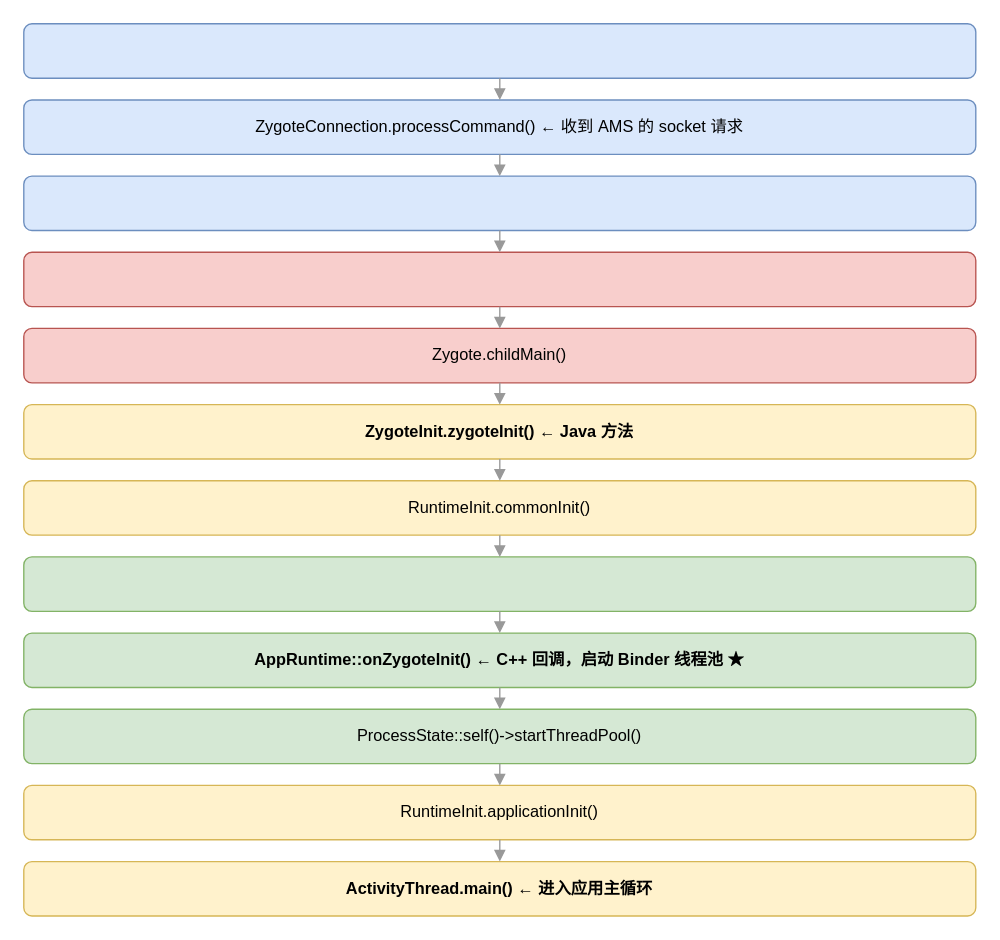
Some shapes in this 1000 by 940 pixel diagram are drawn without their labels. The shapes that lost their labels are listed below. From the top down, each one's centre as x and y in pixels, then its label:
the point at 499,50: Zygote.runSelectLoop()
the point at 499,203: Zygote.forkAndSpecialize() / forkSimpleApps() ← fork 发生在 Java 层
the point at 499,279: 子进程从 fork 点继续（不再回到 app_main.cpp main()）
the point at 499,583: ZygoteInit.nativeZygoteInit() ← JNI 调用
